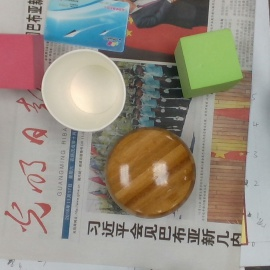card: (44, 1, 130, 51)
chess: (105, 126, 195, 221)
cup: (43, 49, 125, 132)
